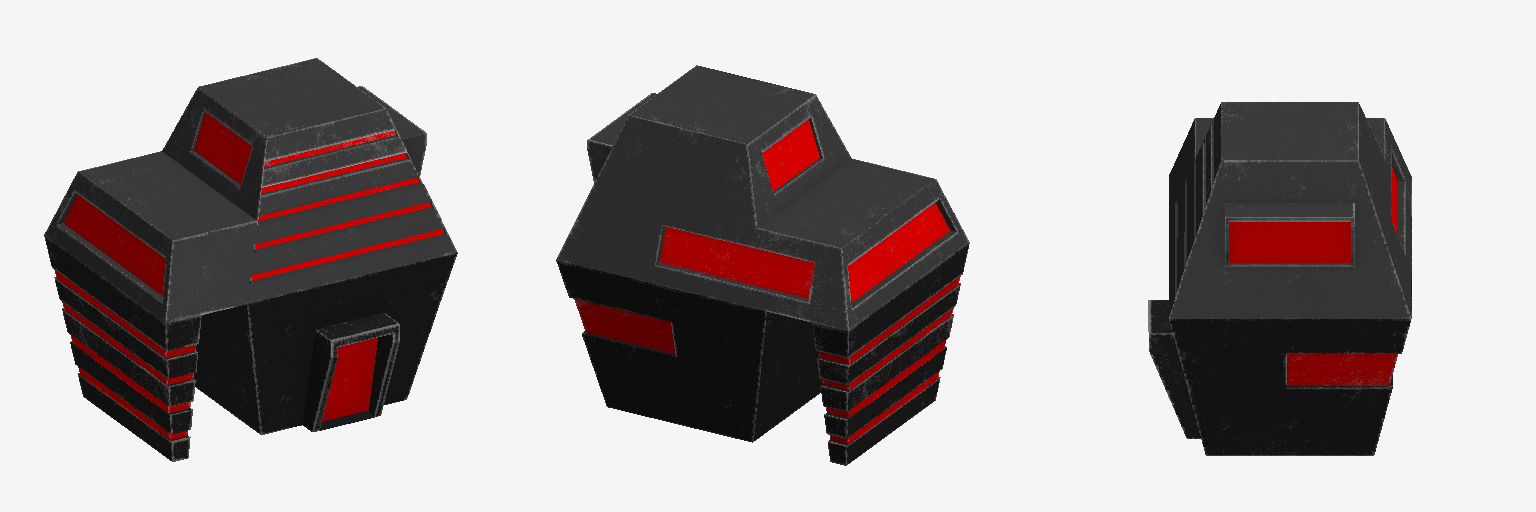
3 views of the same model, side by side, from view 1: azimuth 30°, elevation 25°; view 2: azimuth 150°, elevation 25°; view 3: azimuth 270°, elevation 25° (orthographic).
Parts seen in each view (by area): view 1: kaonov_house; view 2: kaonov_house; view 3: kaonov_house.
Boxes of the visible parts, box(x1,y1,x2,y2) form: kaonov_house: box(44, 58, 457, 461); kaonov_house: box(556, 65, 969, 465); kaonov_house: box(1148, 102, 1411, 455).
Bounding box in the file's own units: 74.65 × 70.65 × 58.17.
1 materials, 1 textured.